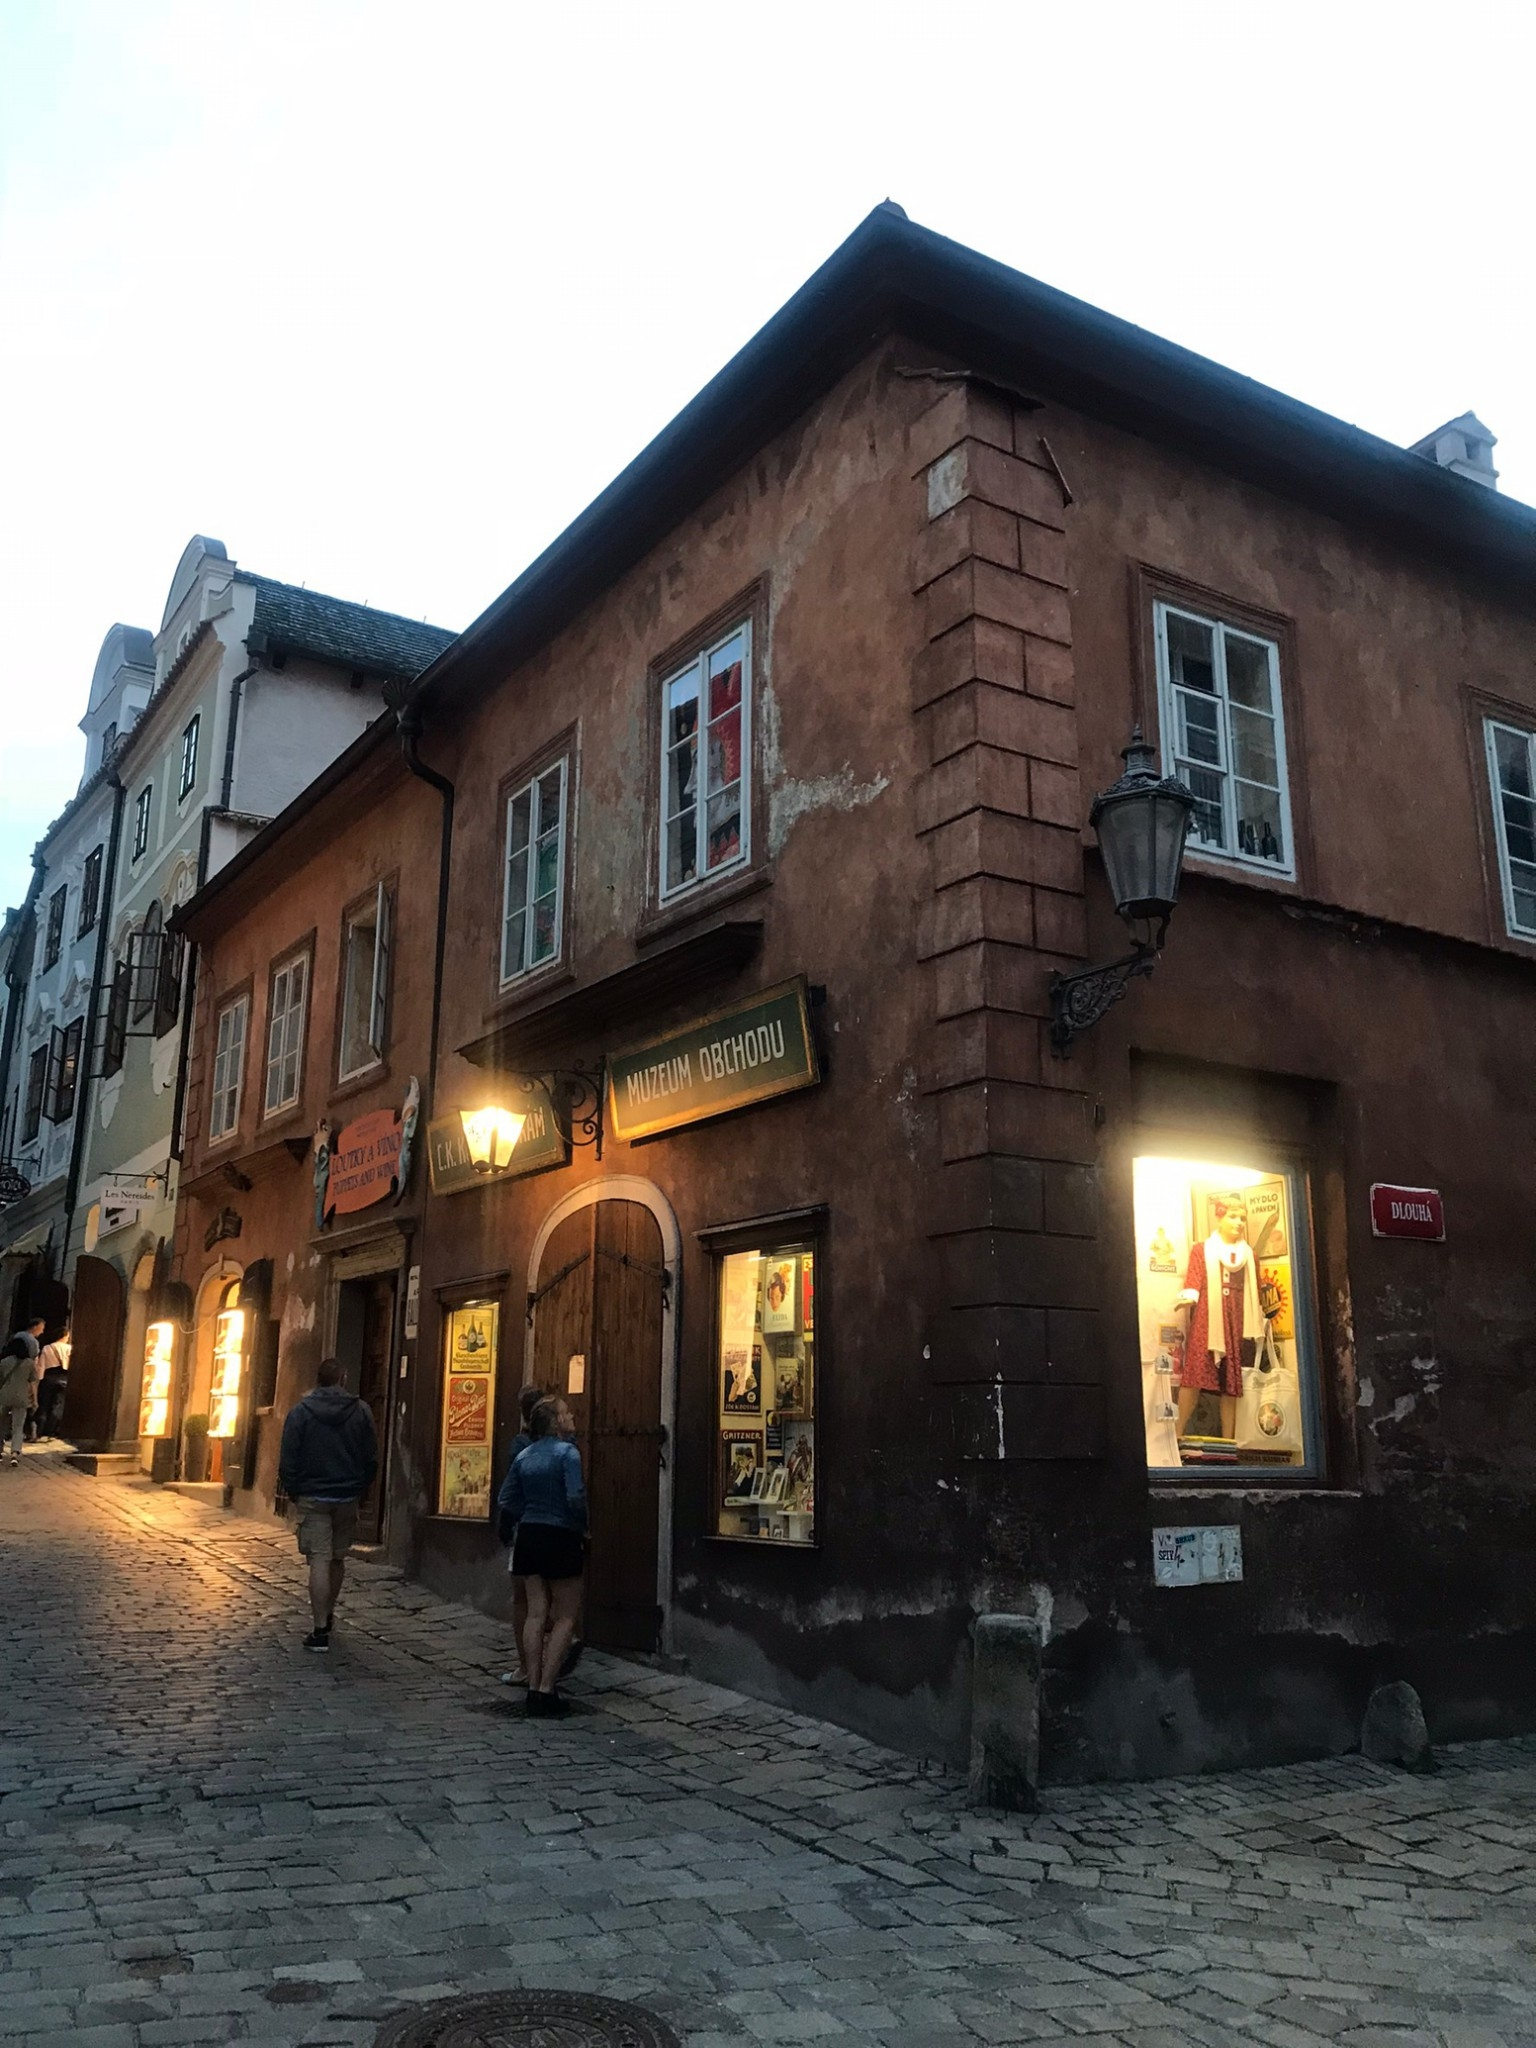people: (489, 1389, 595, 1705), (276, 1347, 382, 1651), (5, 1328, 44, 1467)
